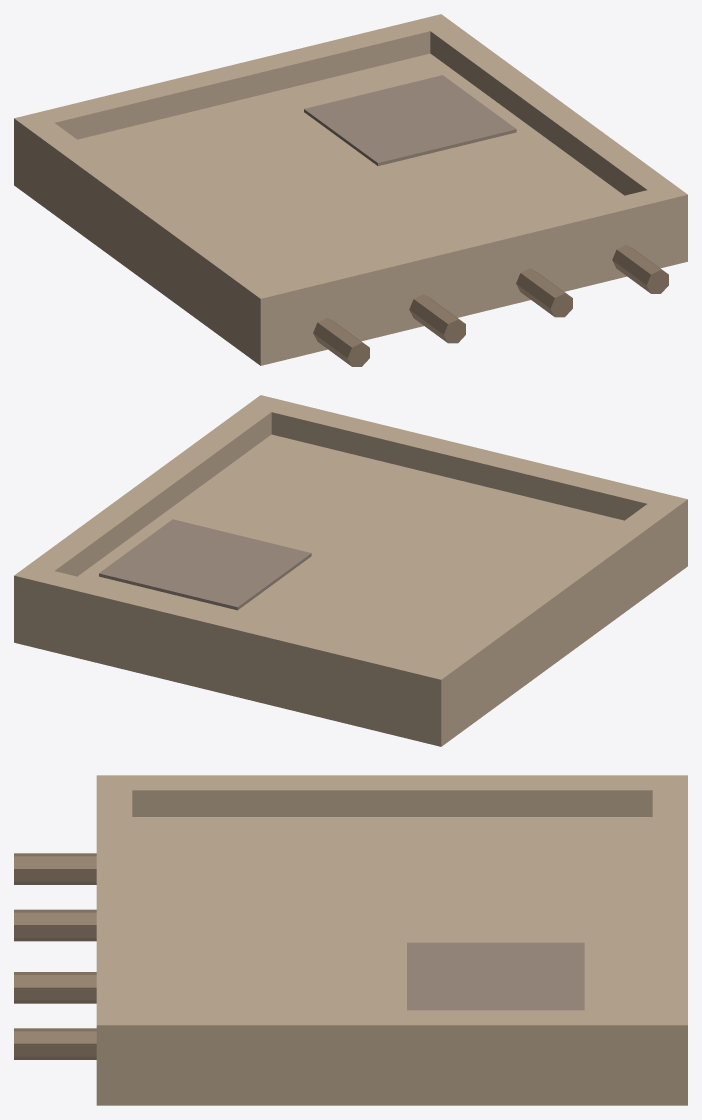
Rendered from roof_flat.glb.
The picture shows the model from 3 angles, top to bottom: view 1: azimuth 30°, elevation 25°; view 2: azimuth 150°, elevation 25°; view 3: azimuth 270°, elevation 25°; orthographic projection. The views are drawn at different scales.
Size of the model in its own units: 2 by 0.3 by 2.28.
